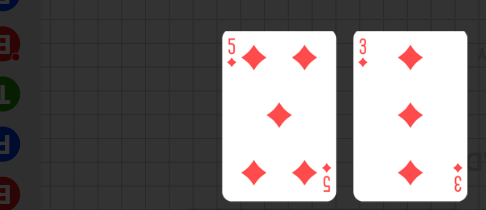3D: (452, 161, 464, 193)
5D: (226, 36, 238, 69)
